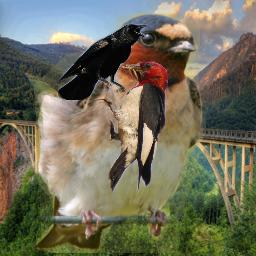Crow: (58, 23, 147, 100)
Swallow: (32, 13, 208, 253)
Woodpecker: (99, 61, 168, 194)
